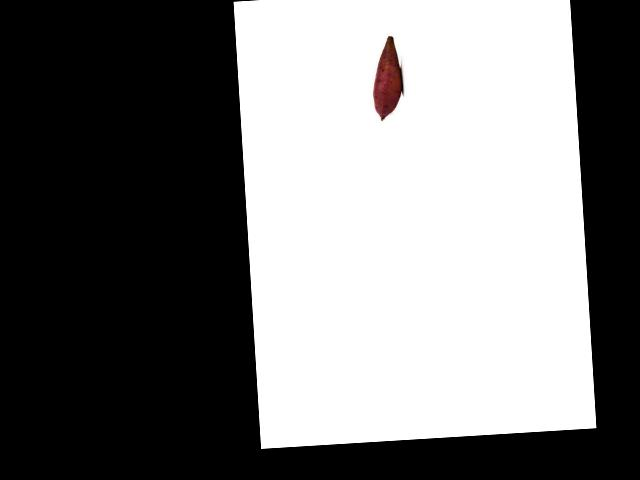sweet_potato: (370, 35, 402, 121)
